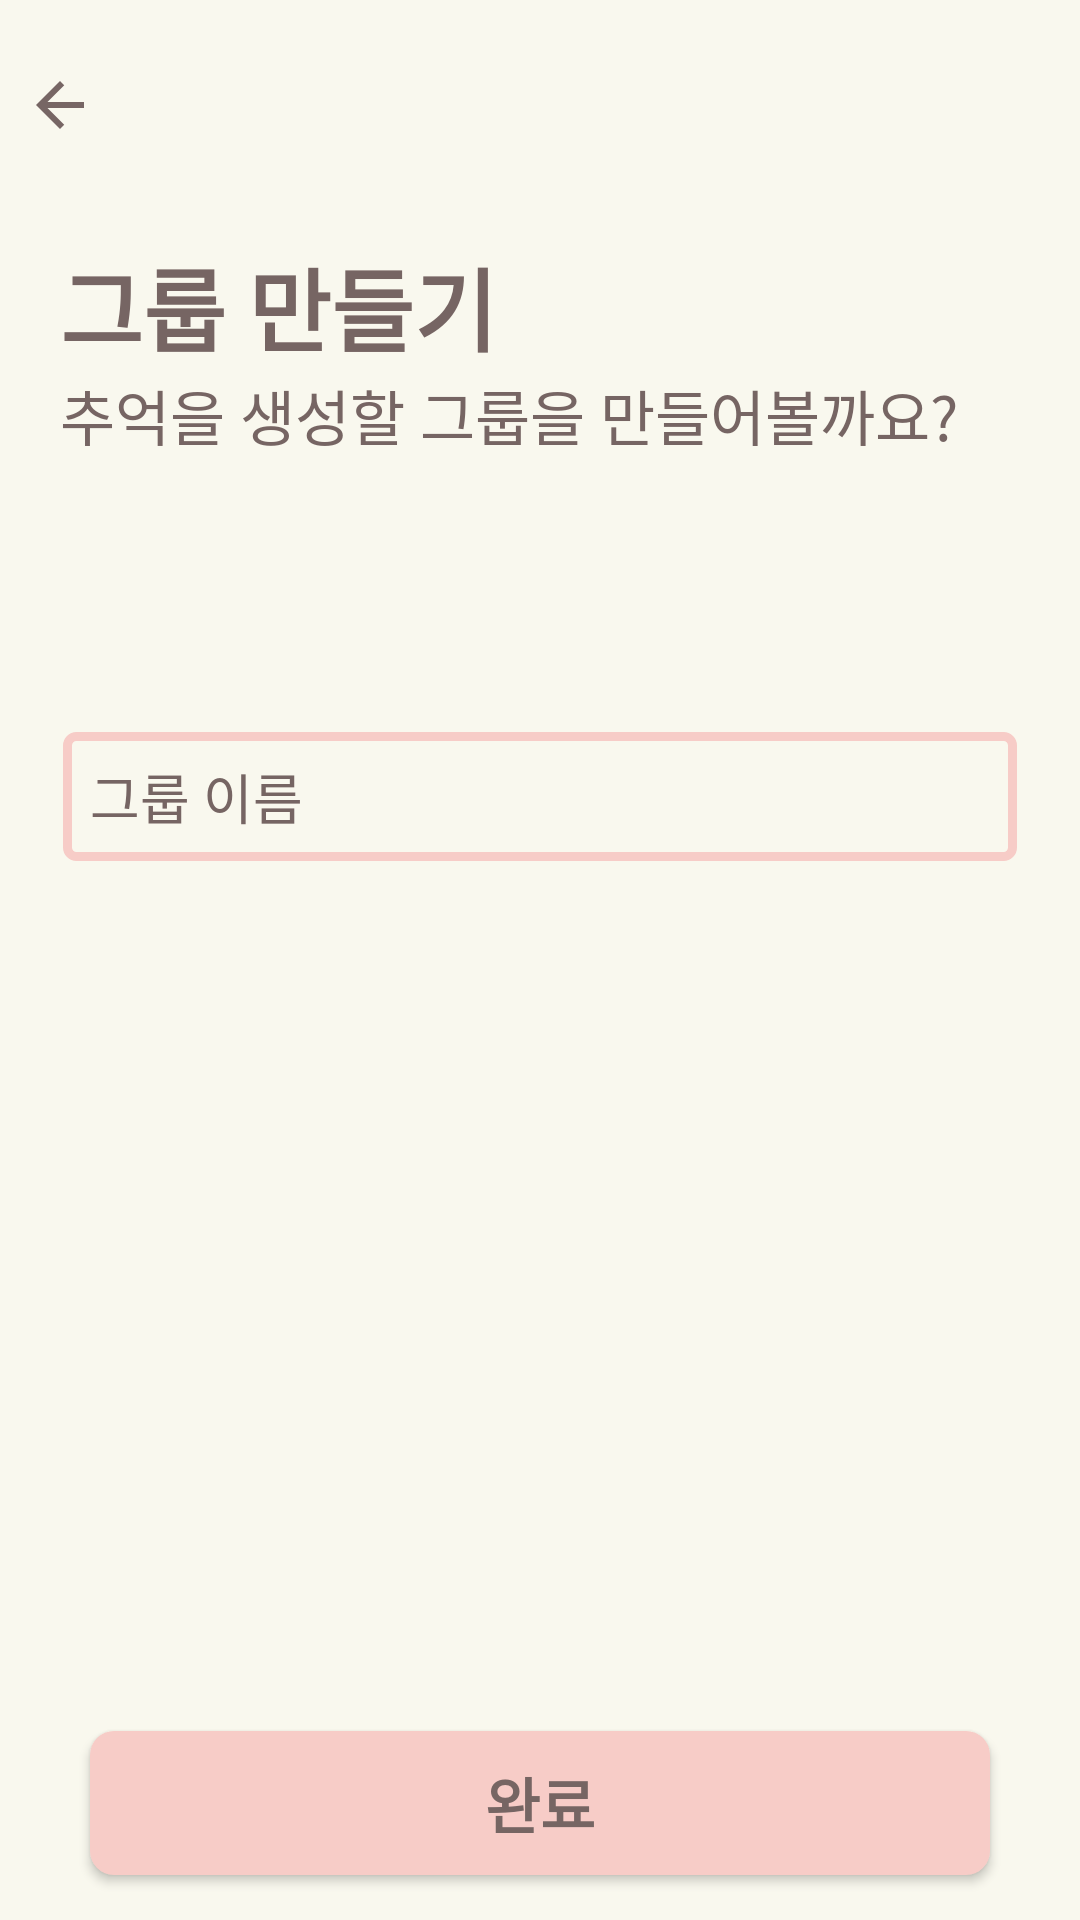

Icons on this 1080×1920 Android screen, each with the point to tap as point (x, y):
arrow back: point (60, 105)
